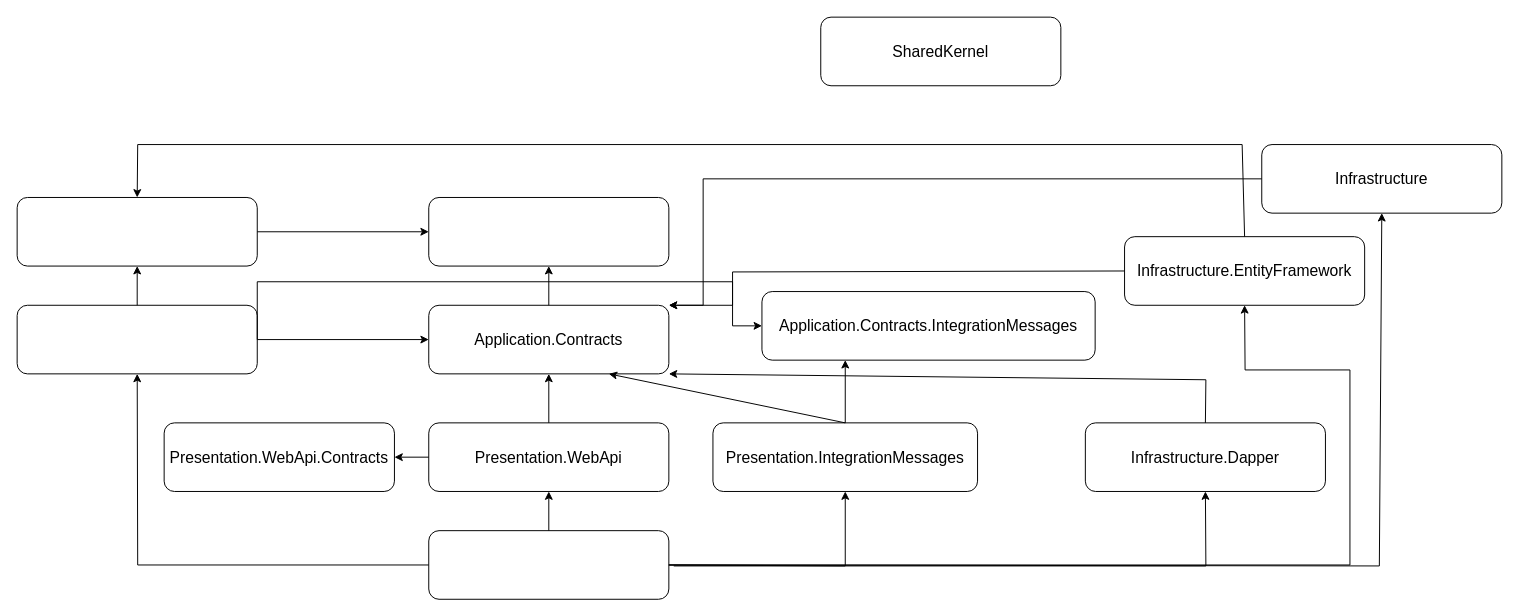
This 1519x616 diagram has some shape labels left out. The shapes that lost their labels are listed below. From the top down, each one's centre as x and y in pixels, then its label:
the point at 136,231: Domain
the point at 548,231: Domain.Contracts
the point at 136,339: Application
the point at 548,564: Backend
